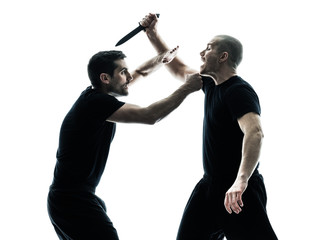handguns: (56, 31, 280, 240), (46, 21, 204, 239), (164, 34, 283, 239)
